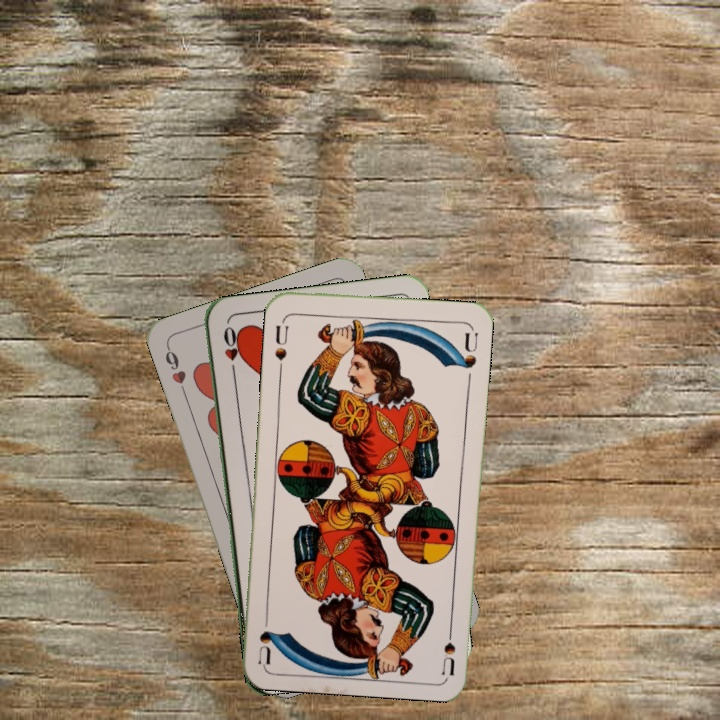H9: (160, 342, 190, 399)
HO: (219, 322, 240, 380)
SU: (438, 616, 458, 676), (271, 314, 291, 373)
